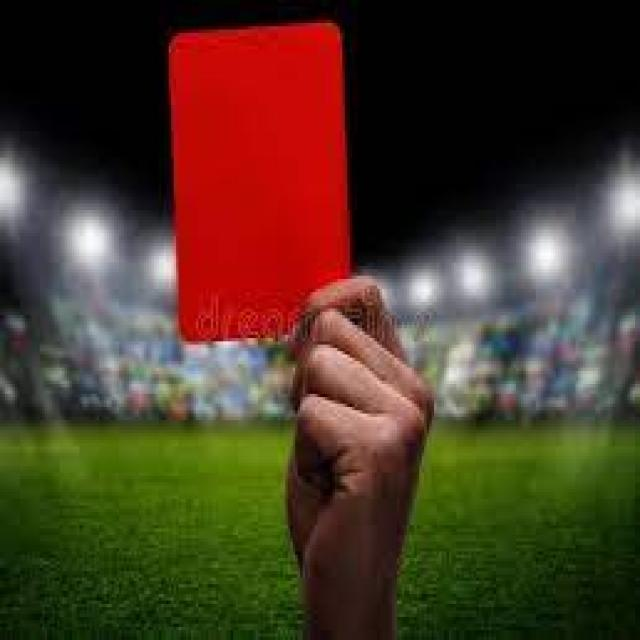red-card: (155, 21, 438, 640)
